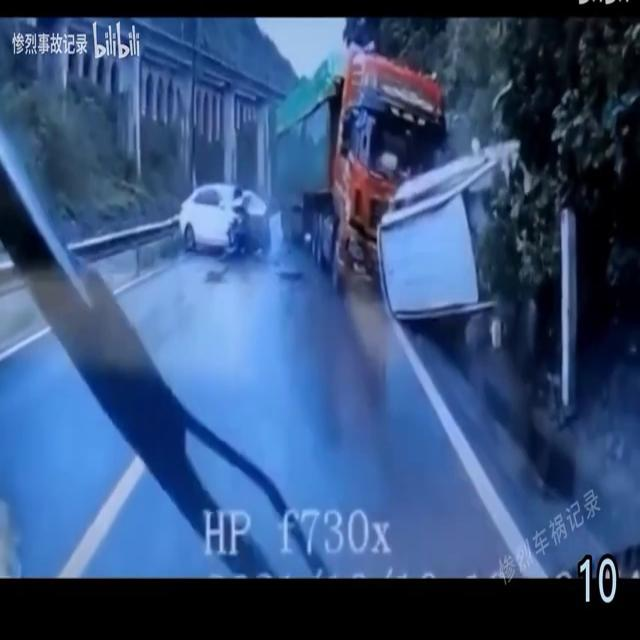multiple_accident: (292, 14, 640, 424), (185, 158, 295, 272)
